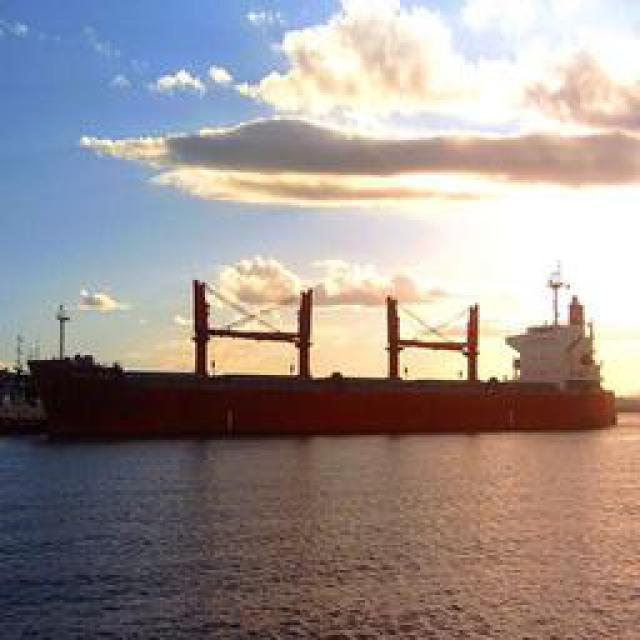Ship: (25, 363, 620, 438)
